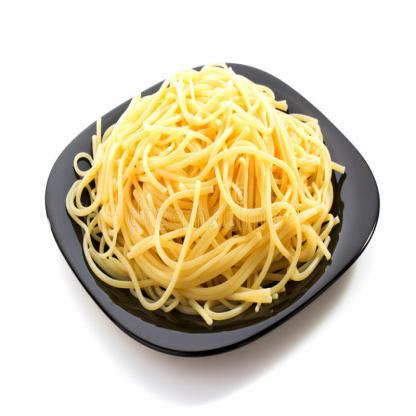Noodles: (66, 62, 347, 326)
